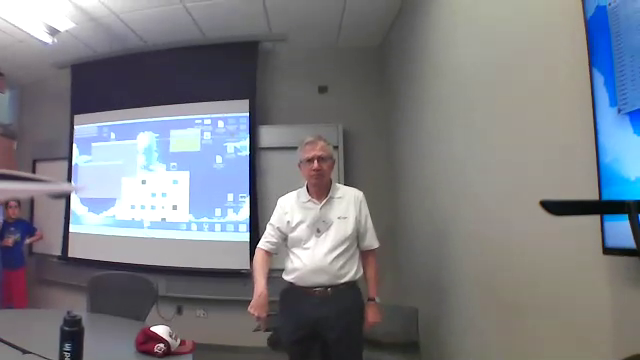down: (240, 286, 277, 337)
